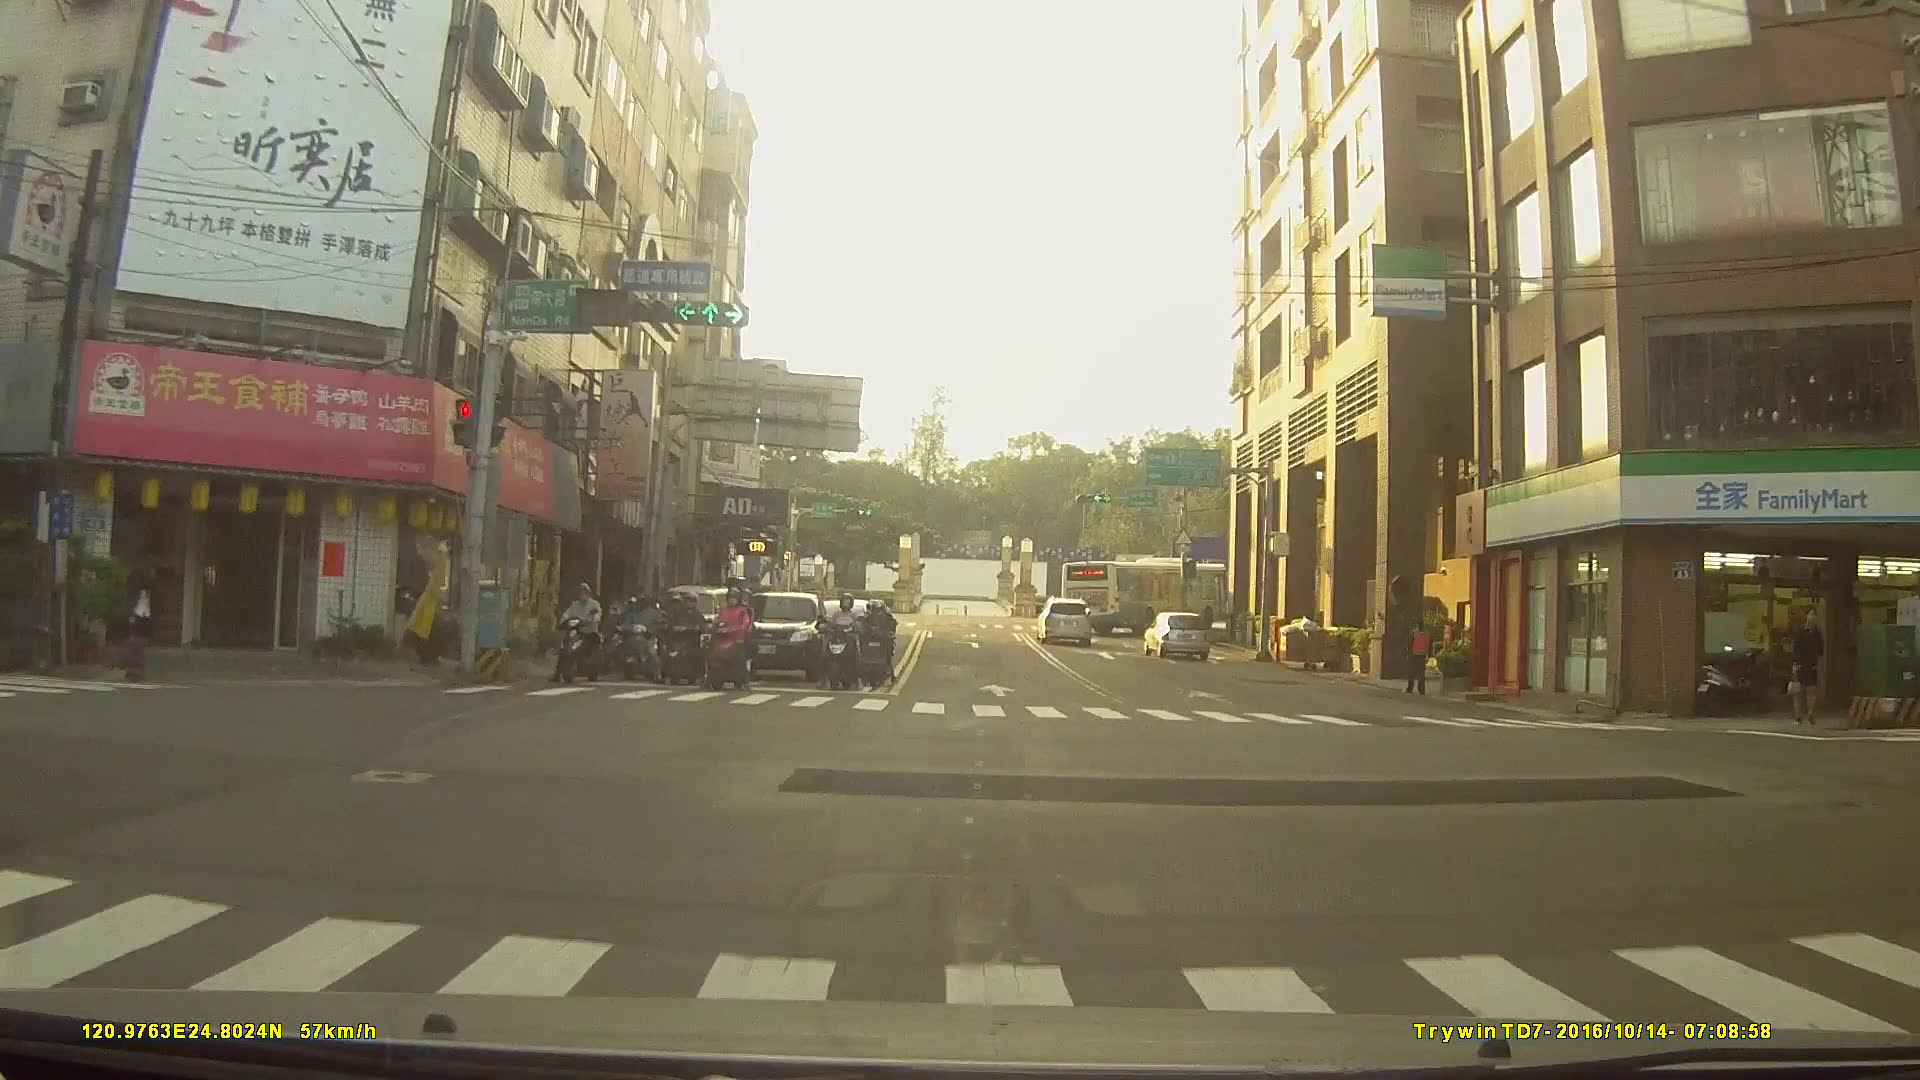pedestrian: (1789, 601, 1833, 733), (120, 562, 160, 696), (1403, 625, 1435, 698)
rider: (702, 586, 760, 697), (558, 581, 605, 683), (822, 596, 864, 695), (662, 594, 701, 691), (610, 601, 653, 690), (860, 609, 900, 695)
vehicle: (1059, 560, 1228, 635), (722, 588, 828, 682), (1140, 610, 1210, 659), (1035, 599, 1094, 650)
